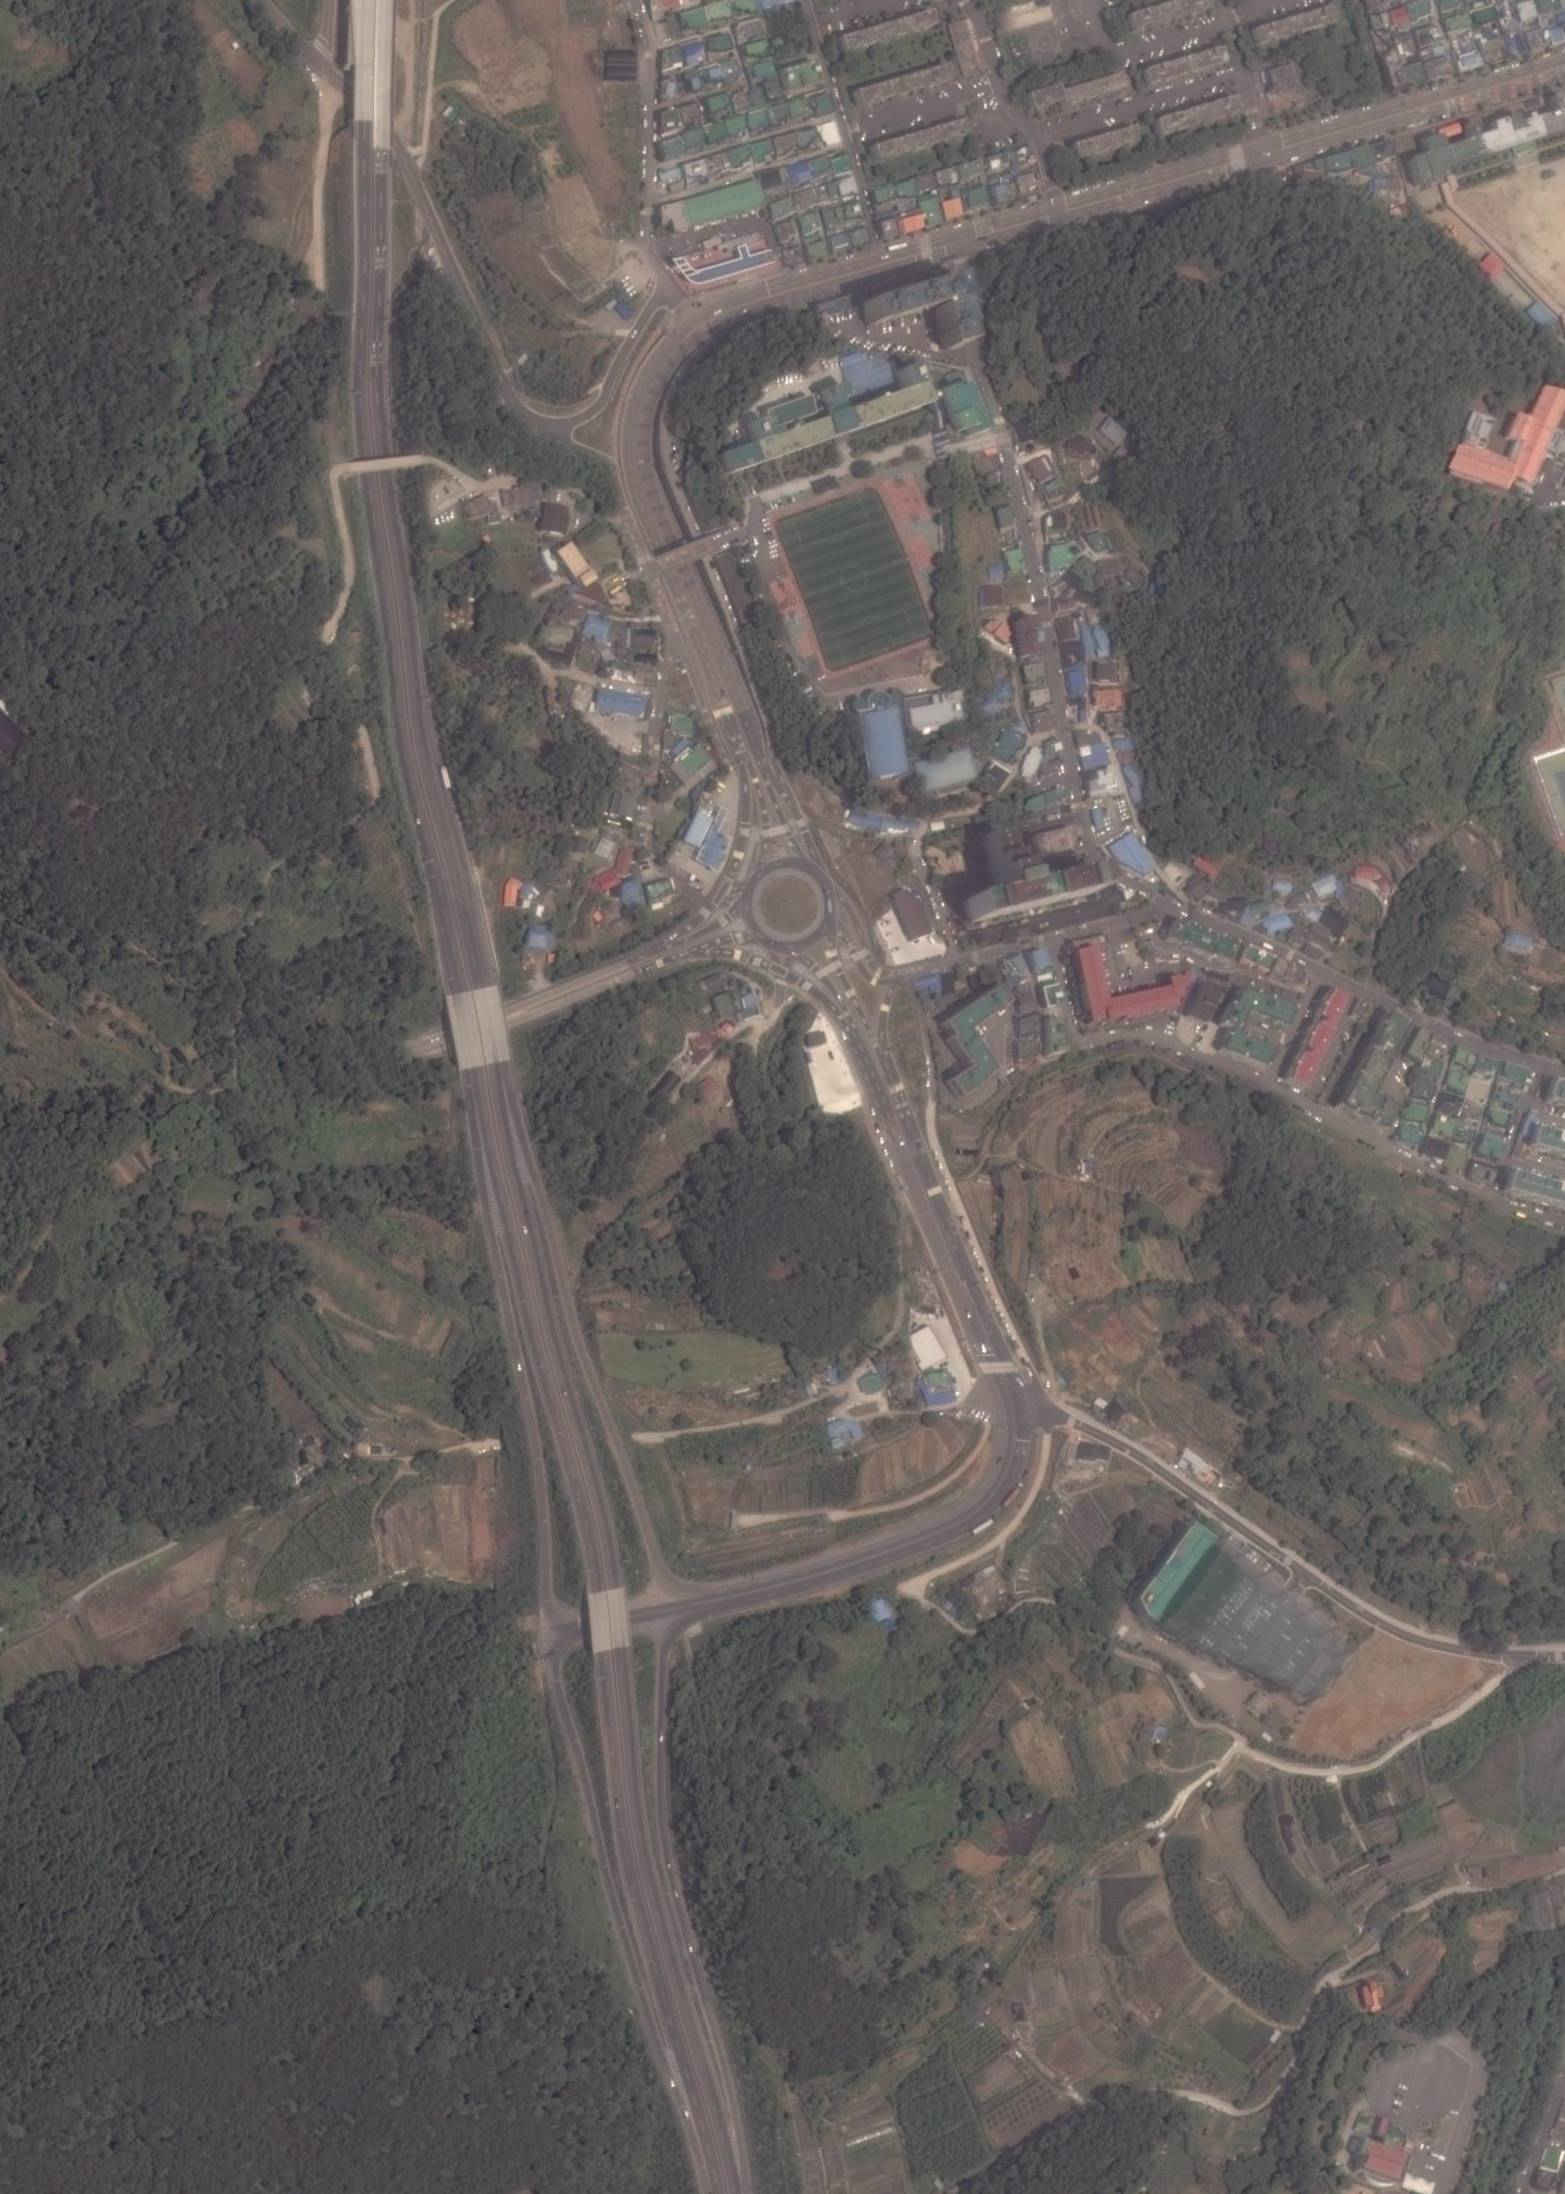ground track field: (762, 472, 947, 681)
roundabout: (749, 867, 828, 941)
soccer ball field: (777, 489, 933, 669)
tennis court: (840, 349, 898, 396)
